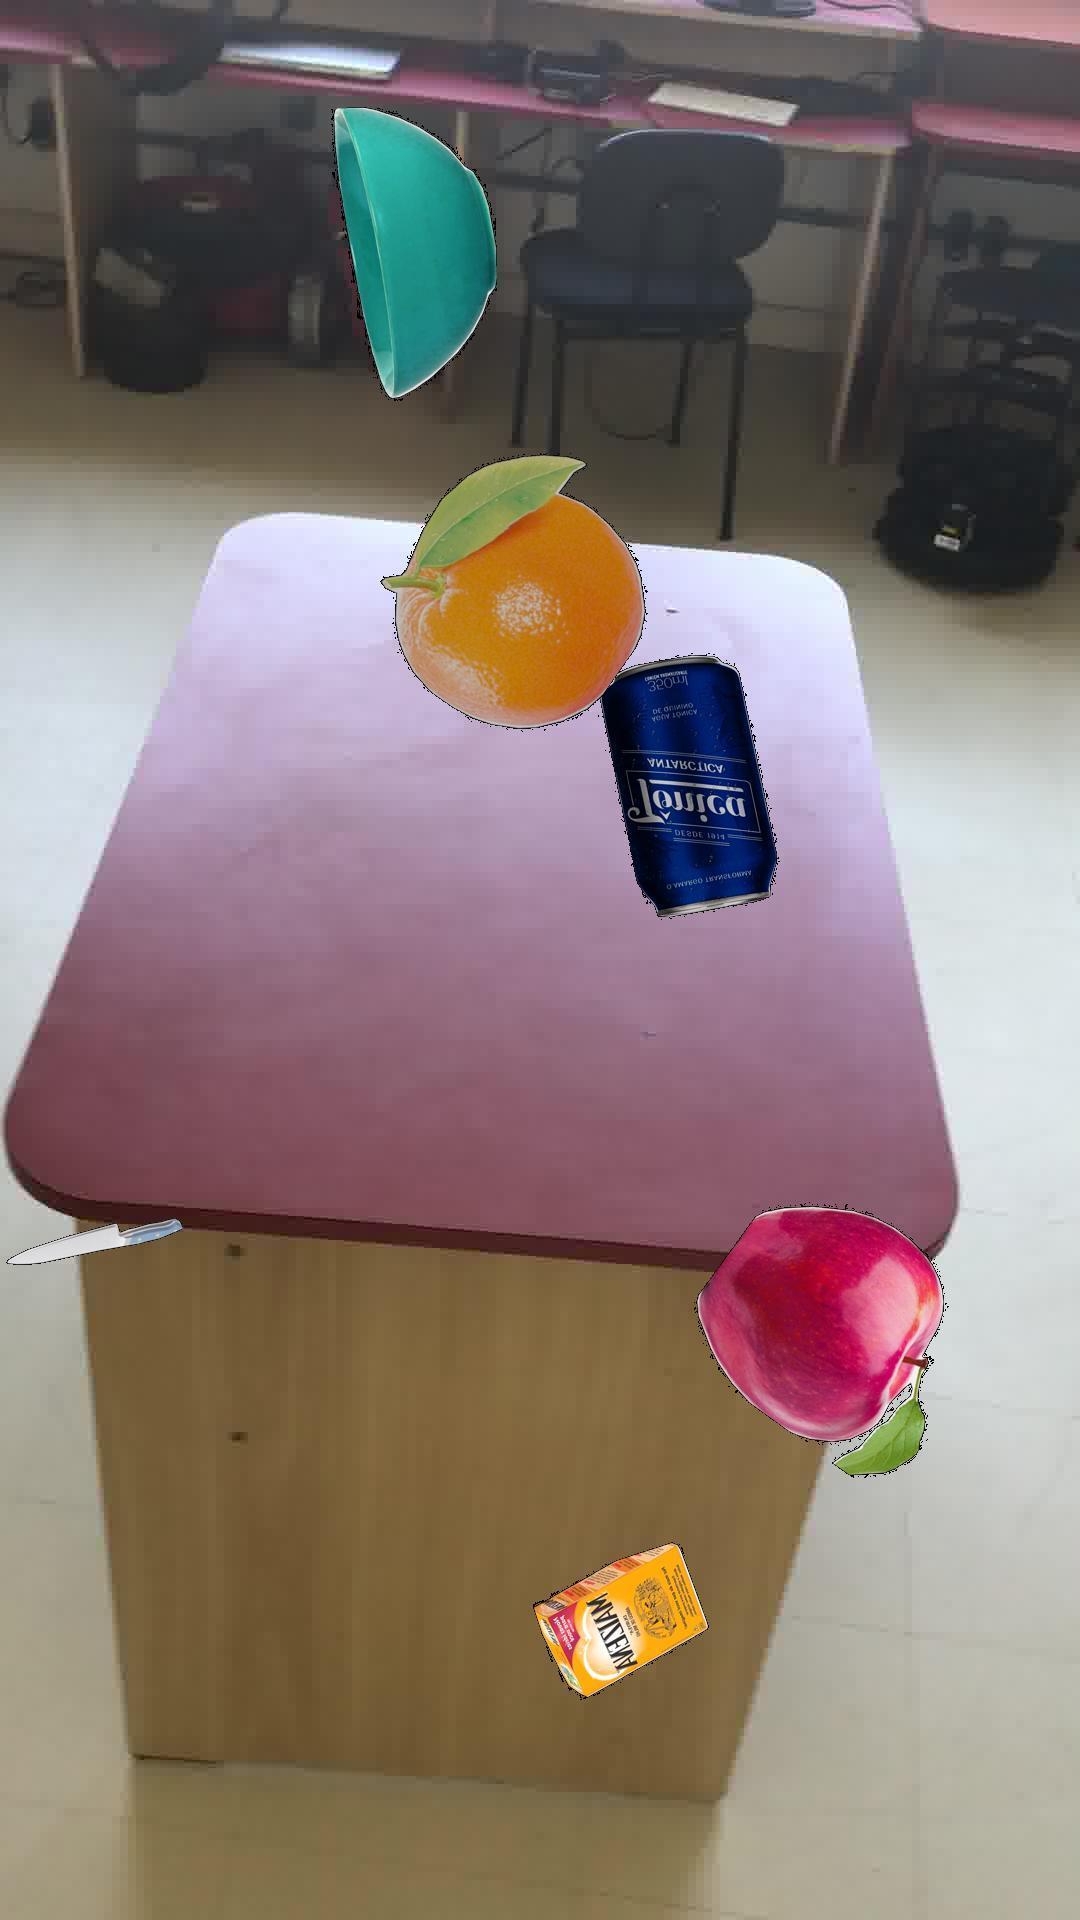apple: (695, 1203, 943, 1477)
bowl: (330, 105, 496, 400)
knife: (4, 1217, 182, 1263)
orange: (378, 451, 645, 728)
tonic: (599, 653, 778, 916)
